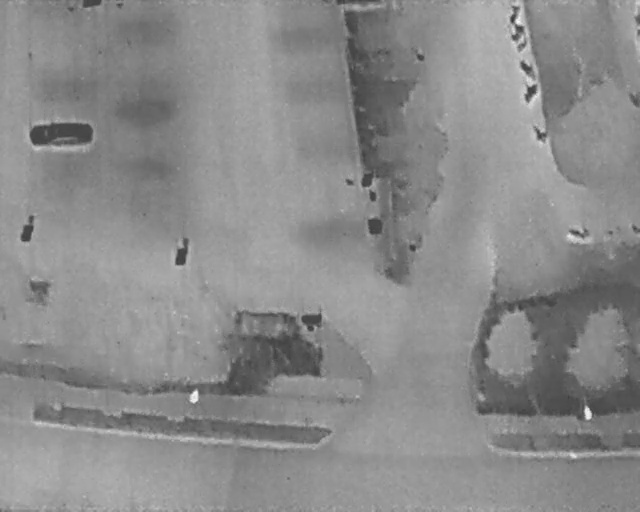Car: (29, 122, 93, 147)
